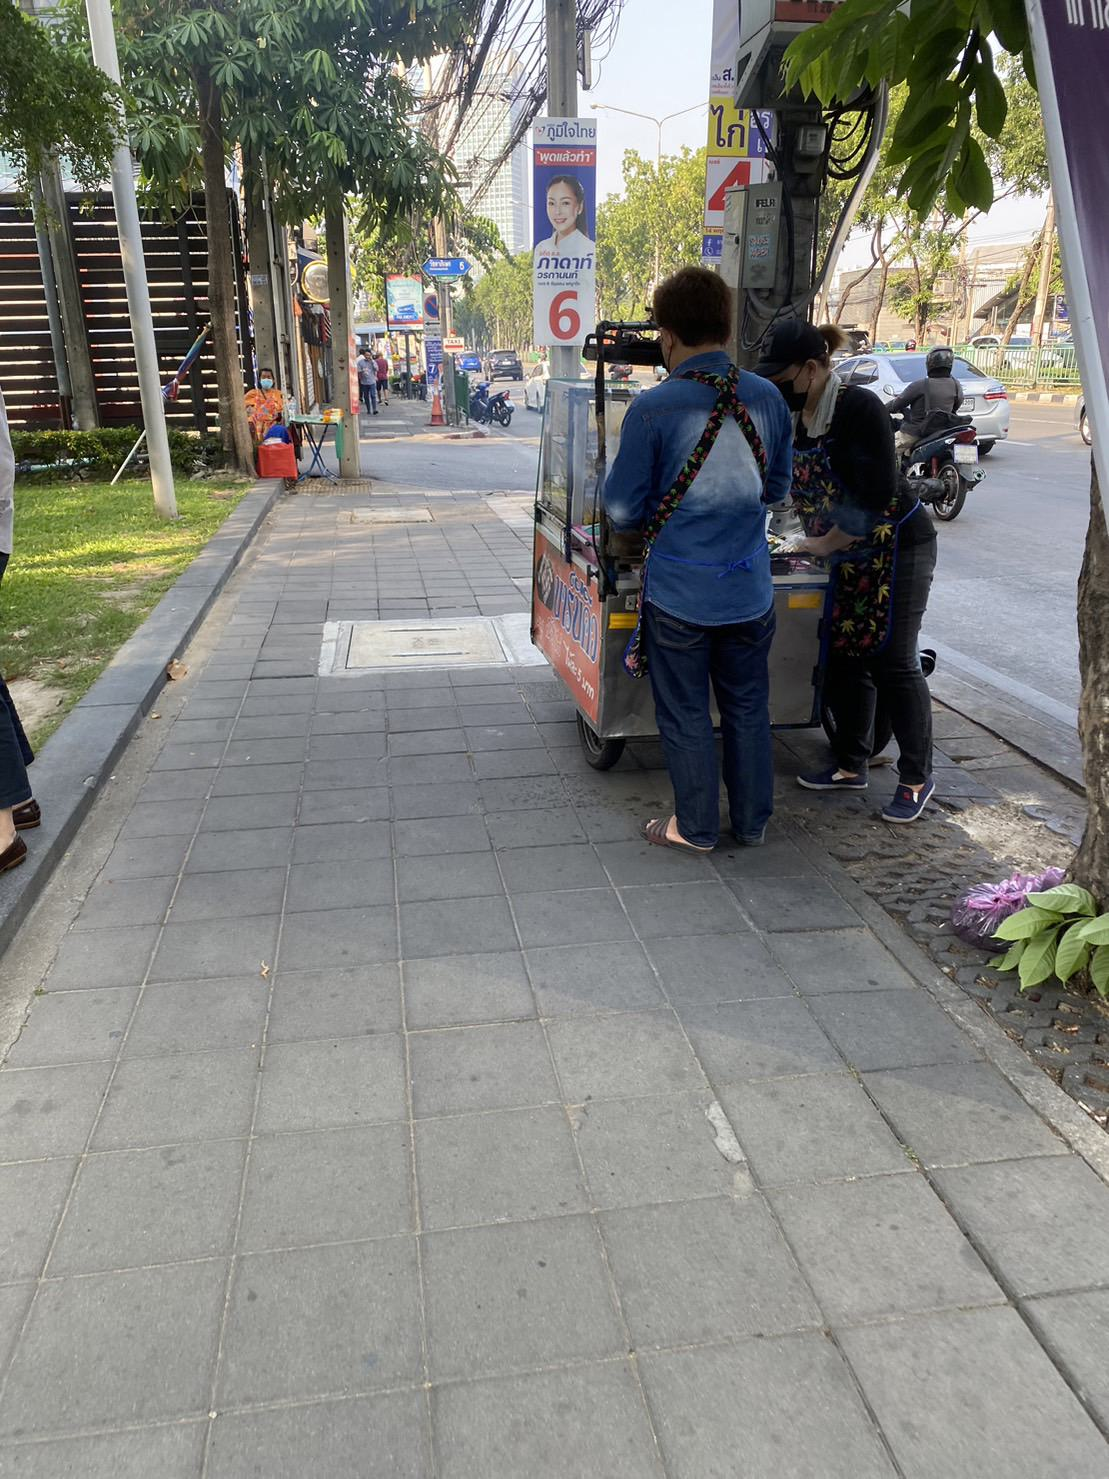Banner: (527, 113, 598, 346)
